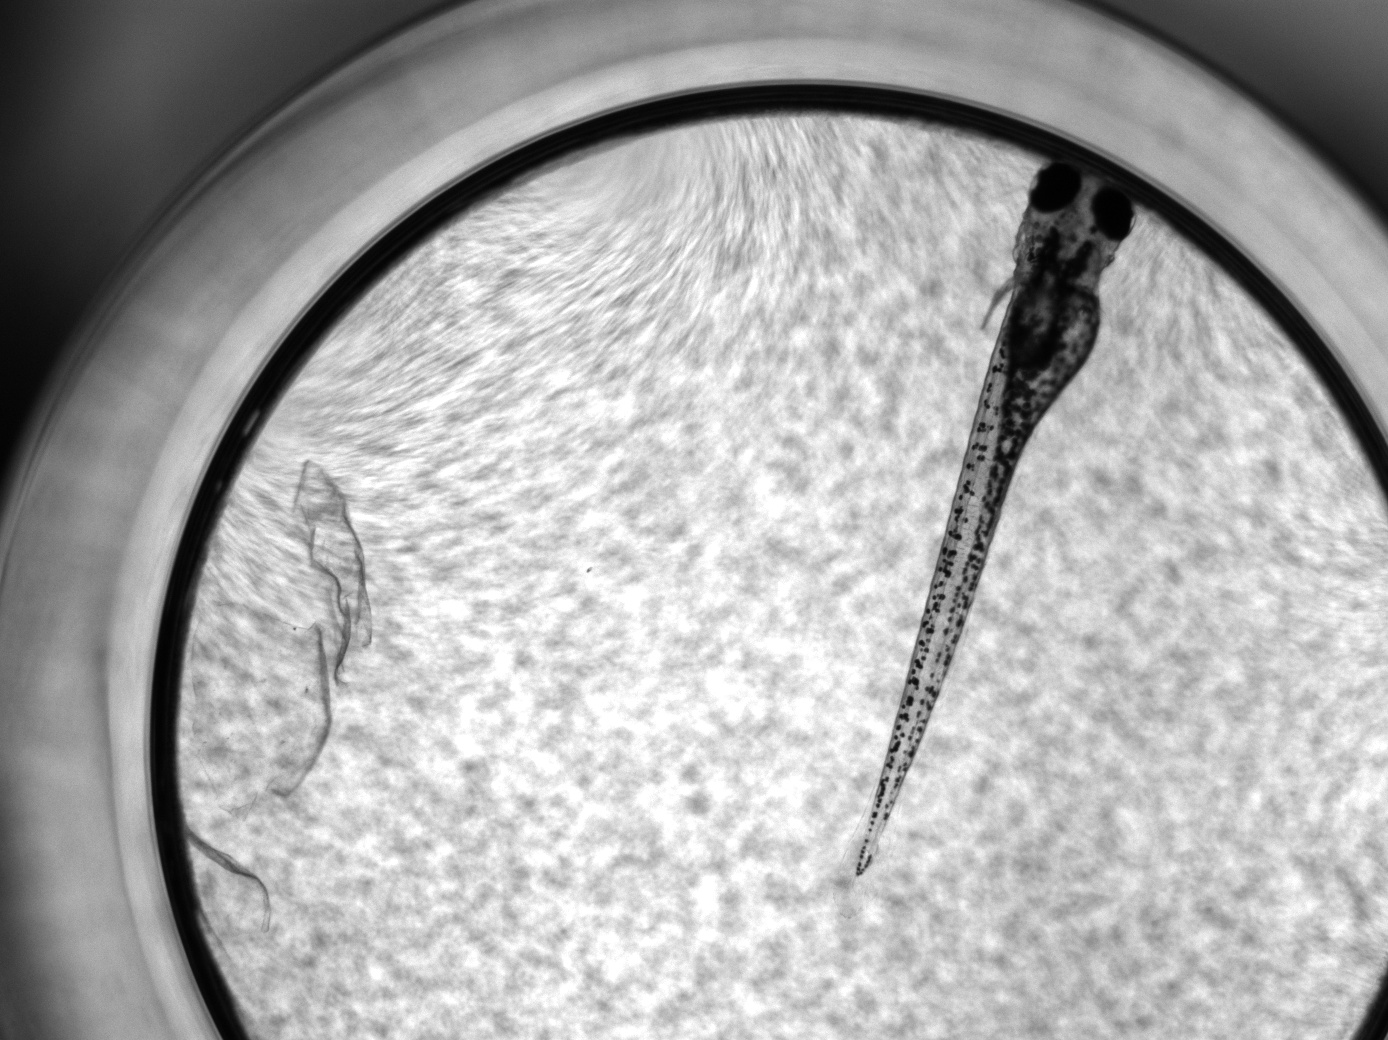debris: (265, 457, 376, 800)
embryo: (855, 163, 1134, 876)
eye: (1029, 164, 1083, 212), (1089, 181, 1132, 240)
yolksac: (1008, 281, 1101, 391)
